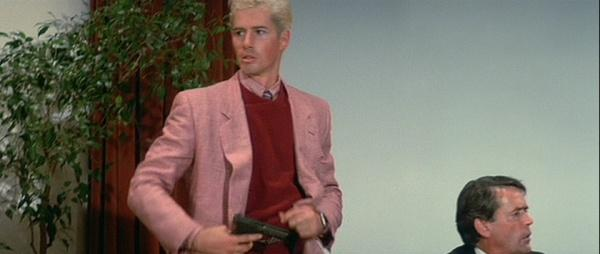Gun: (233, 214, 293, 248)
